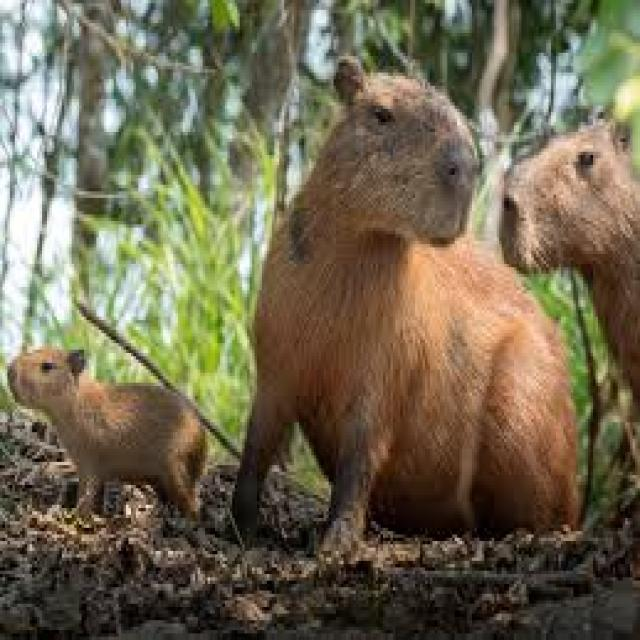capy: (229, 56, 579, 558), (499, 113, 640, 409), (8, 340, 207, 524)
